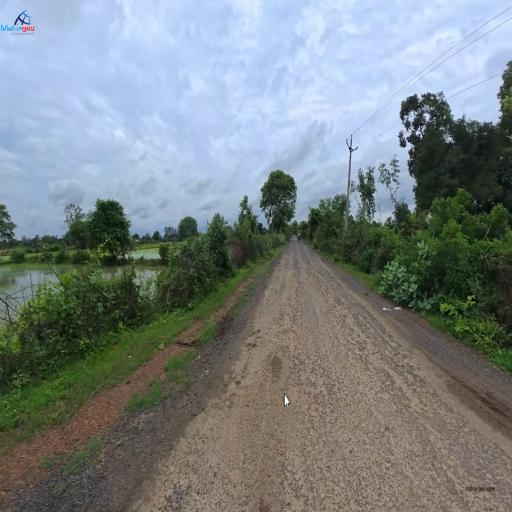edge_damage: (357, 326, 422, 425)
